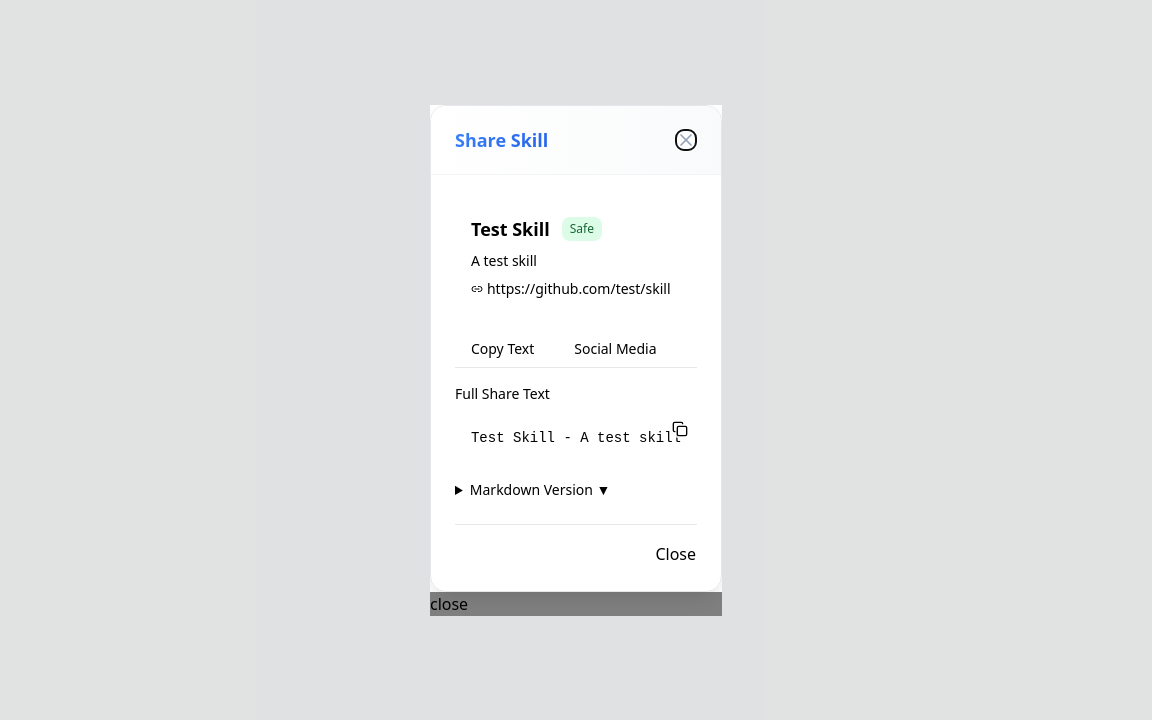
ShareTextDialog › Tab Navigation › should switch to Social Media tab
Click the button "Social Media" at (615, 348), box top-left (558, 330), bottom-right (673, 366)
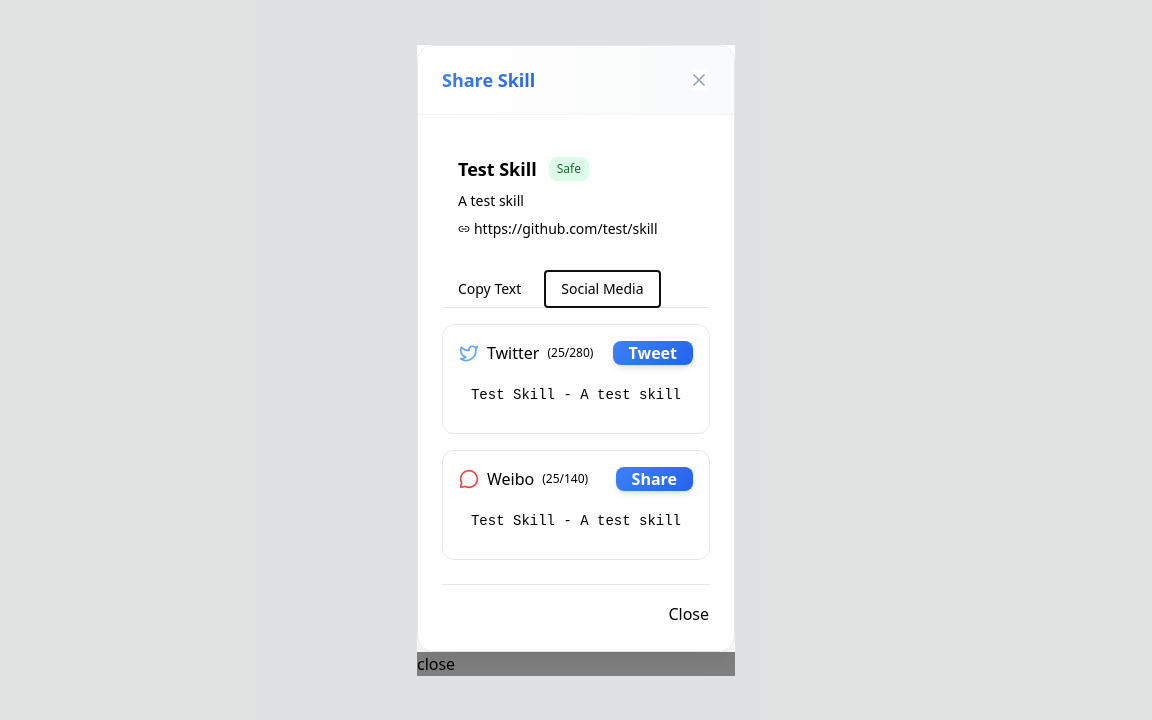
Result: the text "Twitter" is shown at top-left (487, 340), bottom-right (540, 364)
Result: the text "Weibo" is shown at top-left (487, 466), bottom-right (534, 490)
